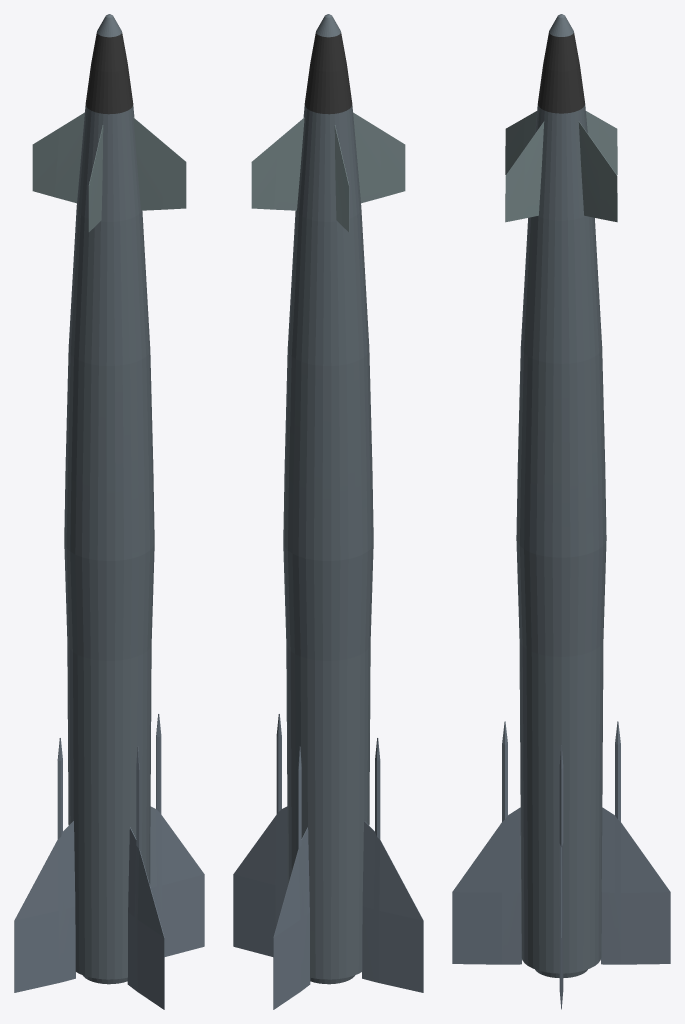
3 renders of one model, left to right at view 1: azimuth 30°, elevation 25°; view 2: azimuth 150°, elevation 25°; view 3: azimuth 270°, elevation 25°, orthographic.
Parts seen in each view (by area): view 1: Cylinder; view 2: Cylinder; view 3: Cylinder.
Boxes of the visible parts, x1,y1,x2,y2 form: Cylinder: (14, 14, 204, 1009); Cylinder: (233, 14, 423, 1009); Cylinder: (452, 14, 670, 1009).
Size of the model in its own units: 51.88 by 250 by 51.88.
